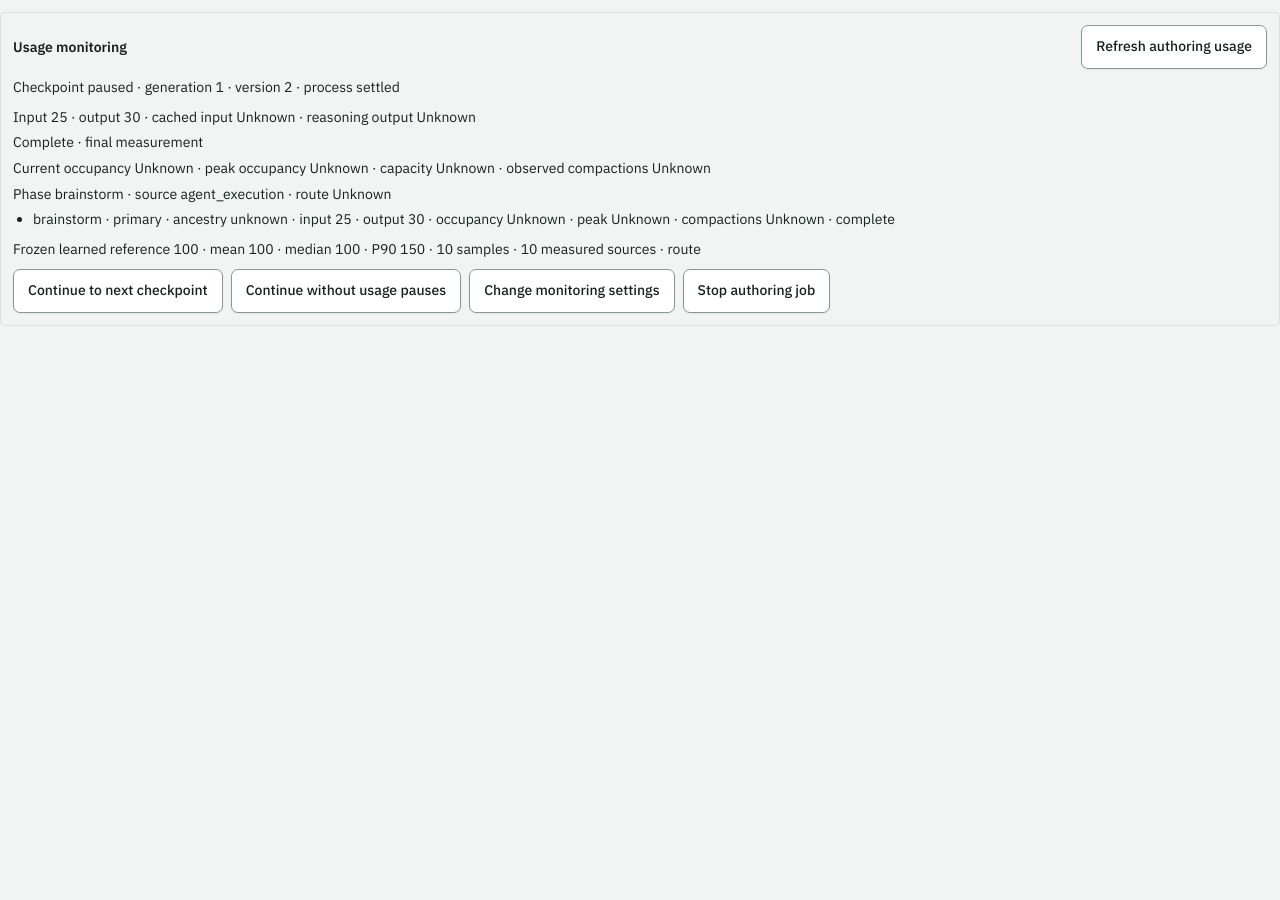
Scenario: explains an authoring monitoring revision at the terminal signed64 version
Click the button "Change monitoring settings".
click(572, 291)  # box [469, 269, 674, 313]
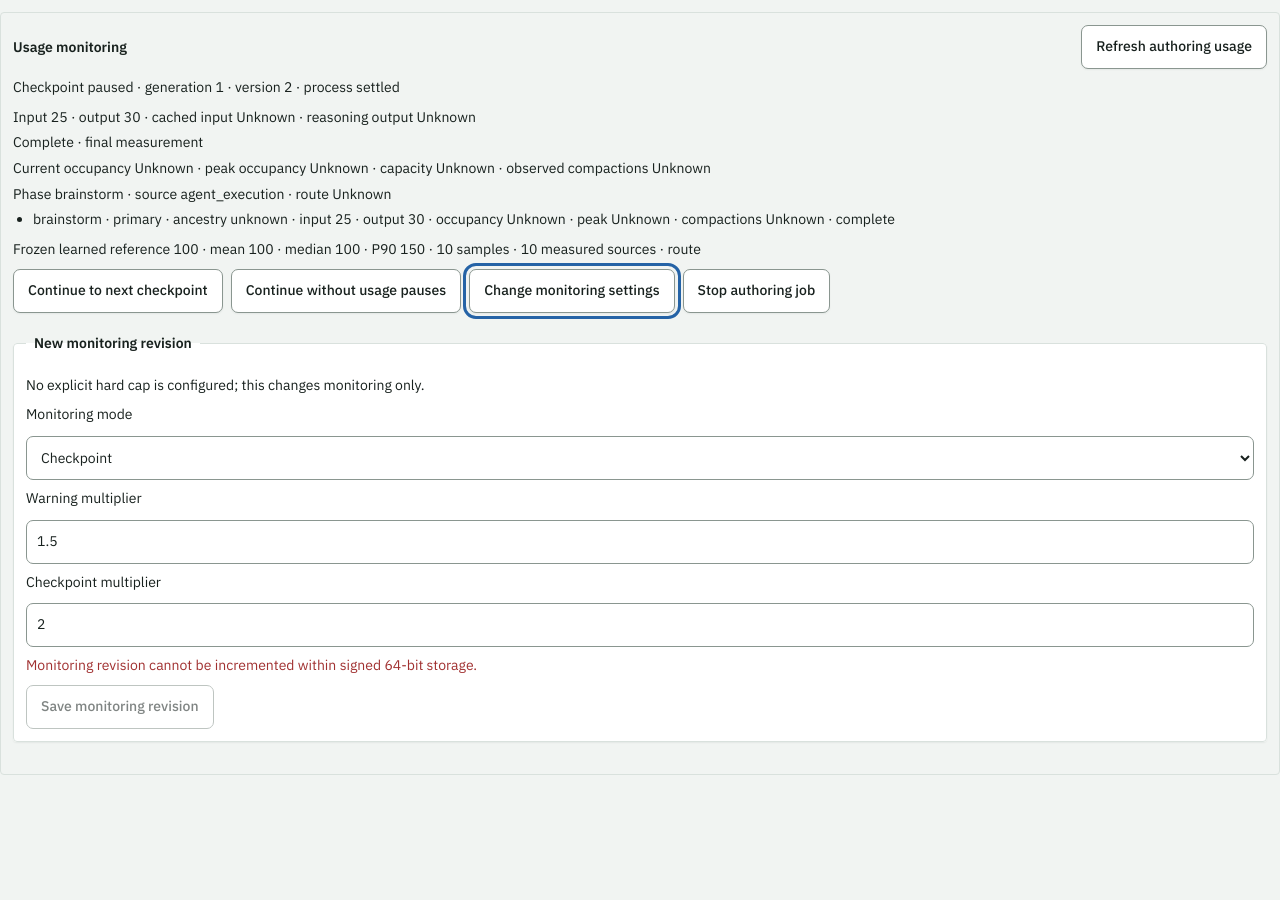
Expected: the text "Monitoring revision cannot be incremented within signed 64-bit storage." is shown, [26, 656, 477, 674]
Expected: the button "Save monitoring revision" is disabled, [26, 685, 214, 729]
